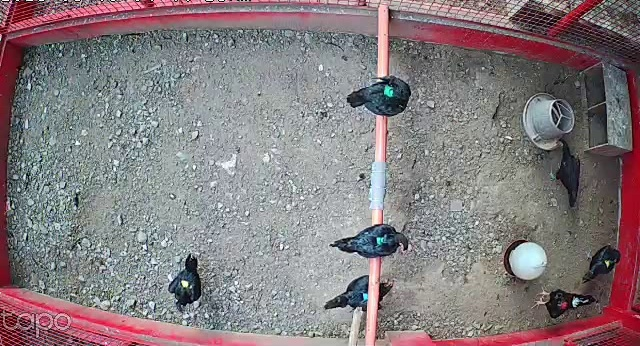Chicken: (329, 218, 410, 263), (325, 271, 400, 316), (348, 73, 414, 120), (544, 137, 584, 211), (169, 250, 204, 314), (578, 241, 622, 283)
Rooster: (522, 281, 605, 322)
Saddle_Color_Blue: (361, 292, 370, 303)
Saddle_Color_Yellow: (182, 279, 194, 291)
Saddle_Color_YellowGreen: (605, 258, 614, 268)
